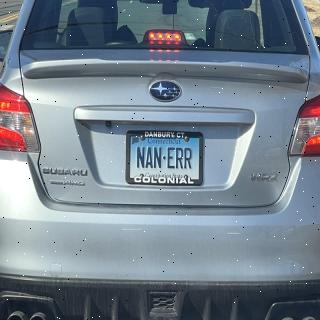license: (127, 132, 205, 186)
